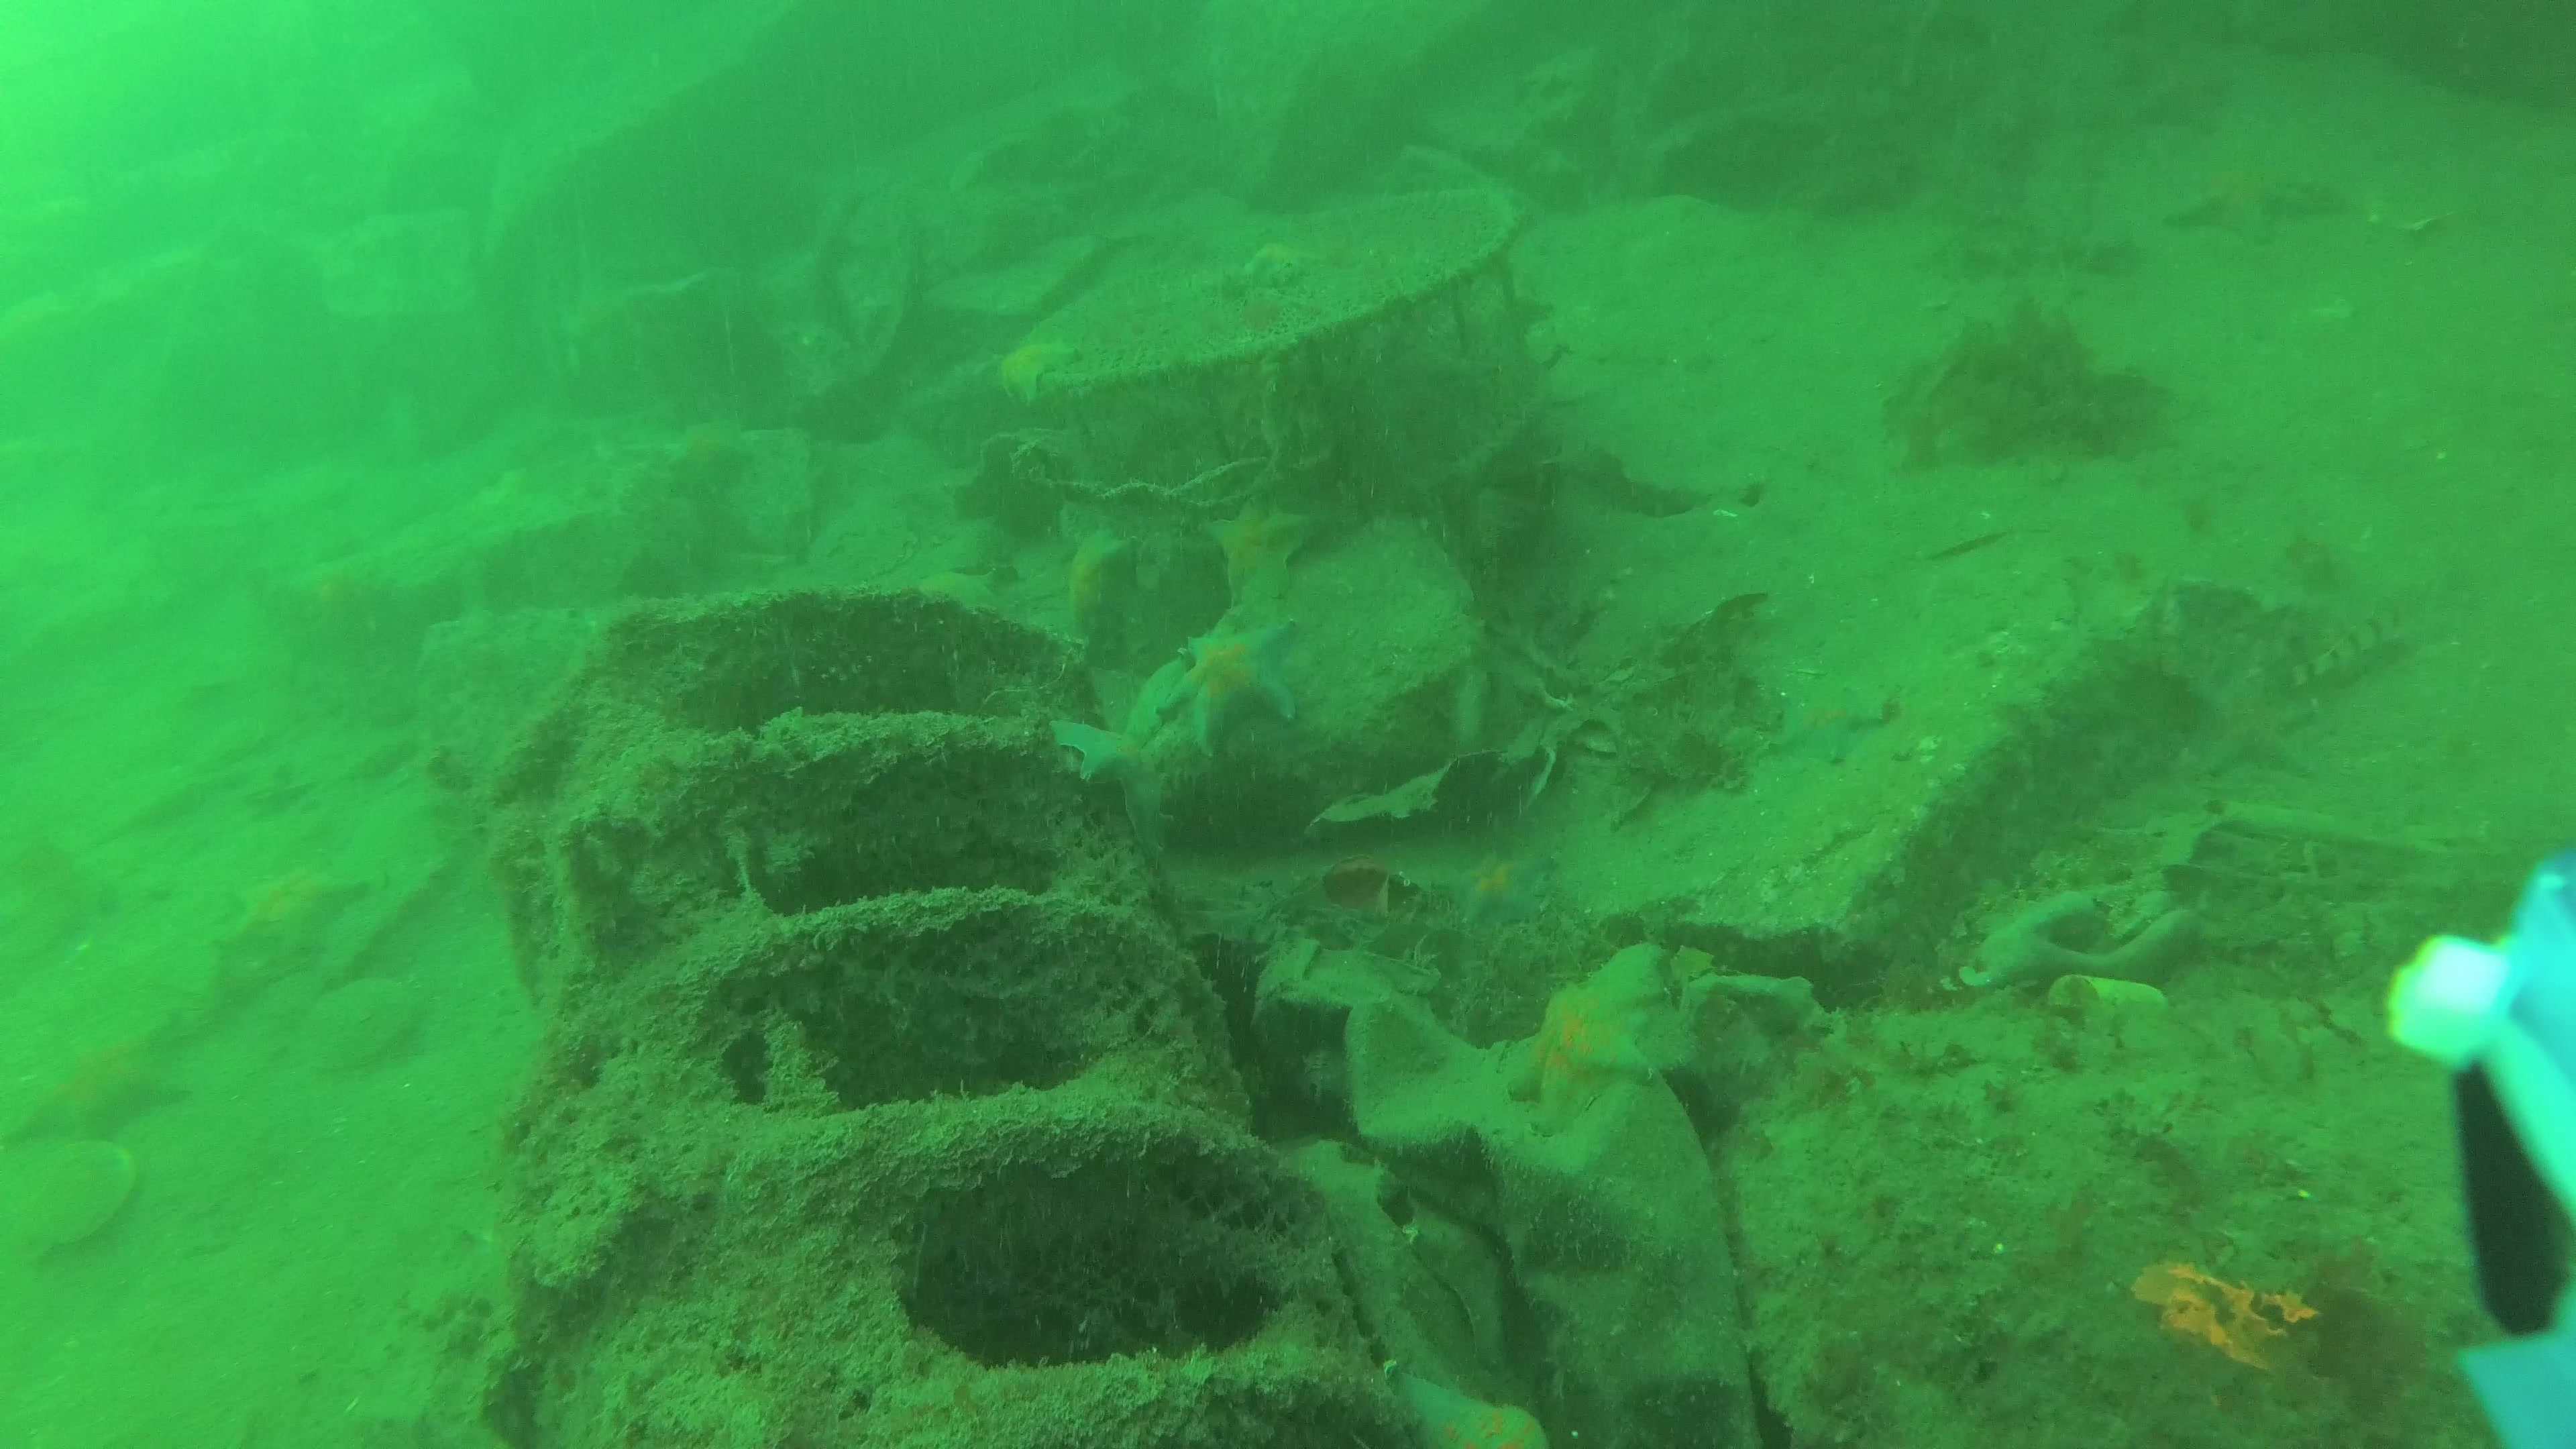scallop: (9, 1132, 129, 1253)
starfish: (1138, 610, 1302, 761), (1399, 1203, 1534, 1366), (1513, 985, 1660, 1123), (2173, 138, 2335, 246), (219, 869, 384, 961), (37, 1031, 179, 1134), (1049, 713, 1155, 835), (2196, 674, 2316, 778), (1196, 499, 1313, 600), (1767, 669, 1870, 766), (1062, 522, 1129, 642), (1453, 856, 1548, 924), (994, 338, 1079, 412)
